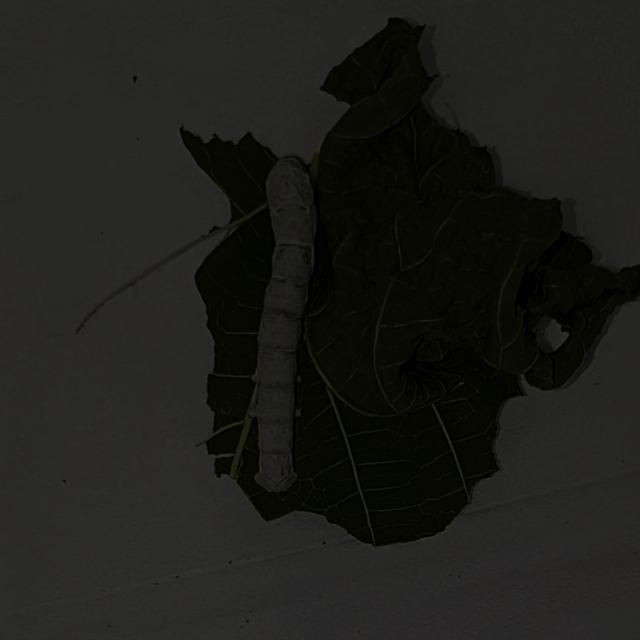Healthy: (223, 125, 355, 488)
